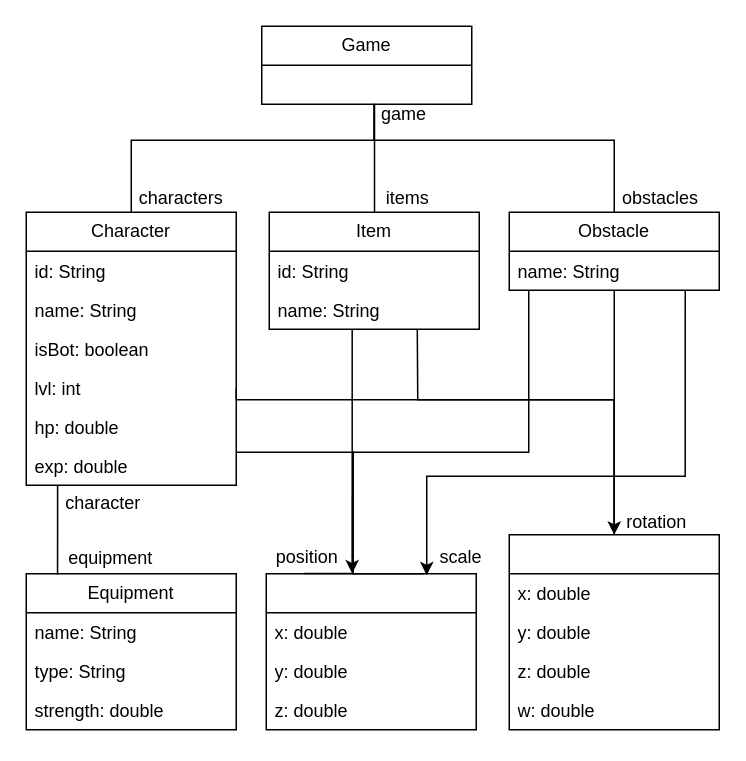
Image size: 746x761. Some labels were removed from this diagram. Here are the shapes that lost their labels. From the top down, the box of each, then its label:
(265, 572, 476, 730): Vector
(508, 533, 719, 730): Quaternion
